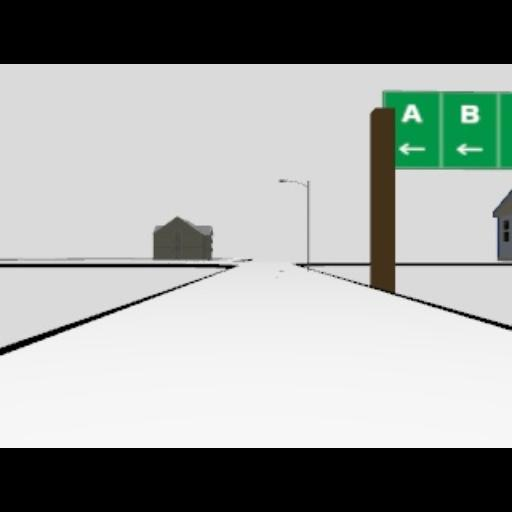A: (400, 100, 422, 122)
B: (460, 104, 478, 124)
Left: (396, 142, 426, 156), (454, 142, 484, 156)
